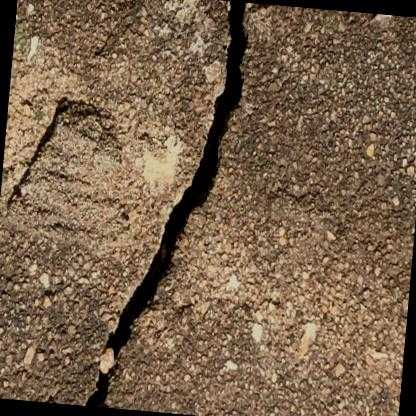crack: (105, 1, 251, 364), (86, 368, 109, 407)
